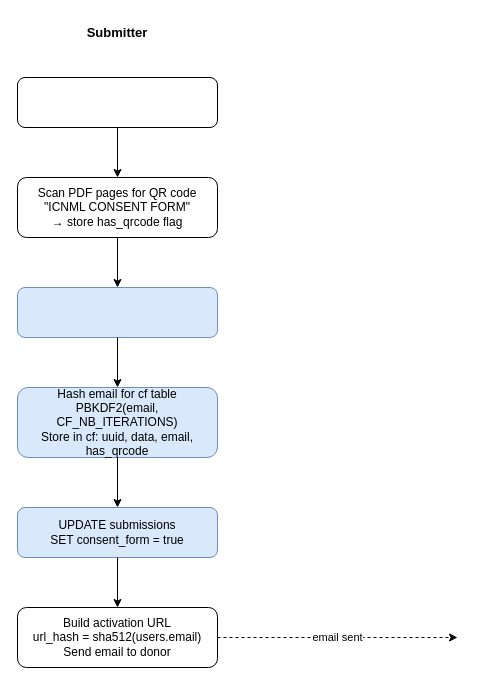
Image size: 483x685. Some labels were removed from this diagram. The shapes that lost their labels are listed below. From the top down, each one's centre as x and y in pixels, then its label:
At (117,102): "POST /upload (consent_form) PDF sent by submitter".
At (117,312): "GPG encrypt PDF".
